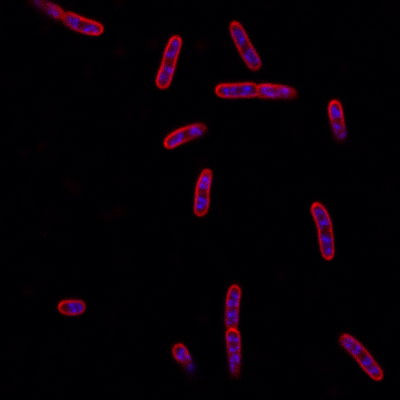Control: (335, 331, 385, 382), (227, 18, 262, 72), (307, 200, 336, 262), (154, 33, 185, 90), (213, 82, 299, 102), (192, 168, 213, 217), (54, 297, 87, 316)
Oblique: (22, 0, 107, 37), (223, 283, 245, 383), (163, 122, 208, 152), (325, 99, 349, 144), (170, 341, 196, 373)
